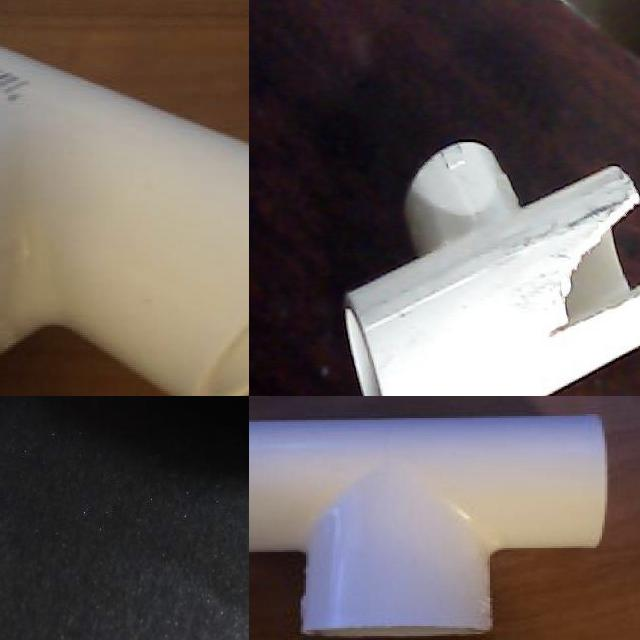Defective: (518, 192, 640, 348)
T Joint: (0, 45, 249, 396), (342, 144, 640, 396)
